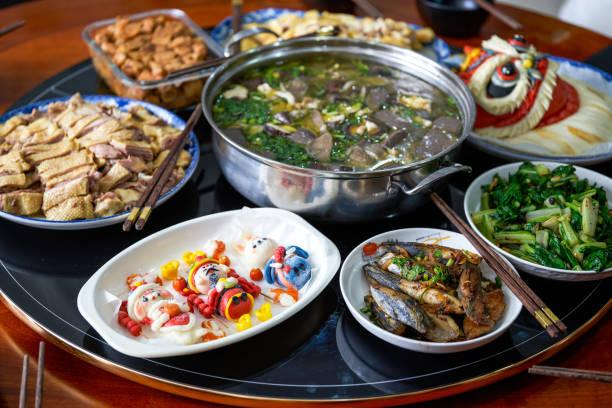Braised Crucian Carp: (201, 37, 474, 224), (78, 207, 336, 357), (0, 94, 196, 229), (342, 227, 523, 354), (465, 161, 610, 279)
